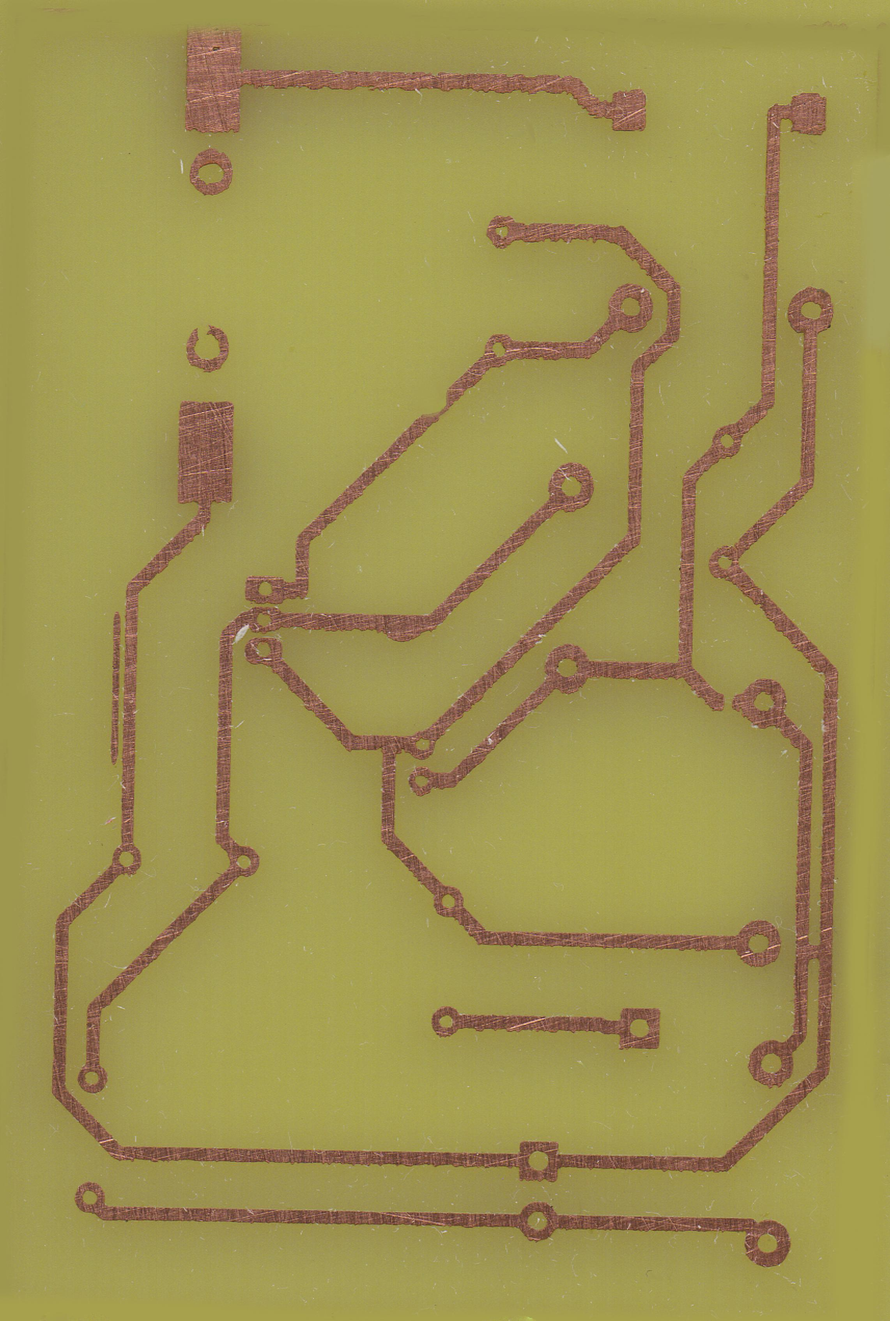missing_hole: (177, 317, 236, 376)
mouse_bite: (421, 387, 460, 424)
open_circuit: (718, 690, 739, 721)
short: (794, 936, 837, 968)
spur: (379, 610, 432, 649)
spurious_copper: (108, 608, 123, 766)
